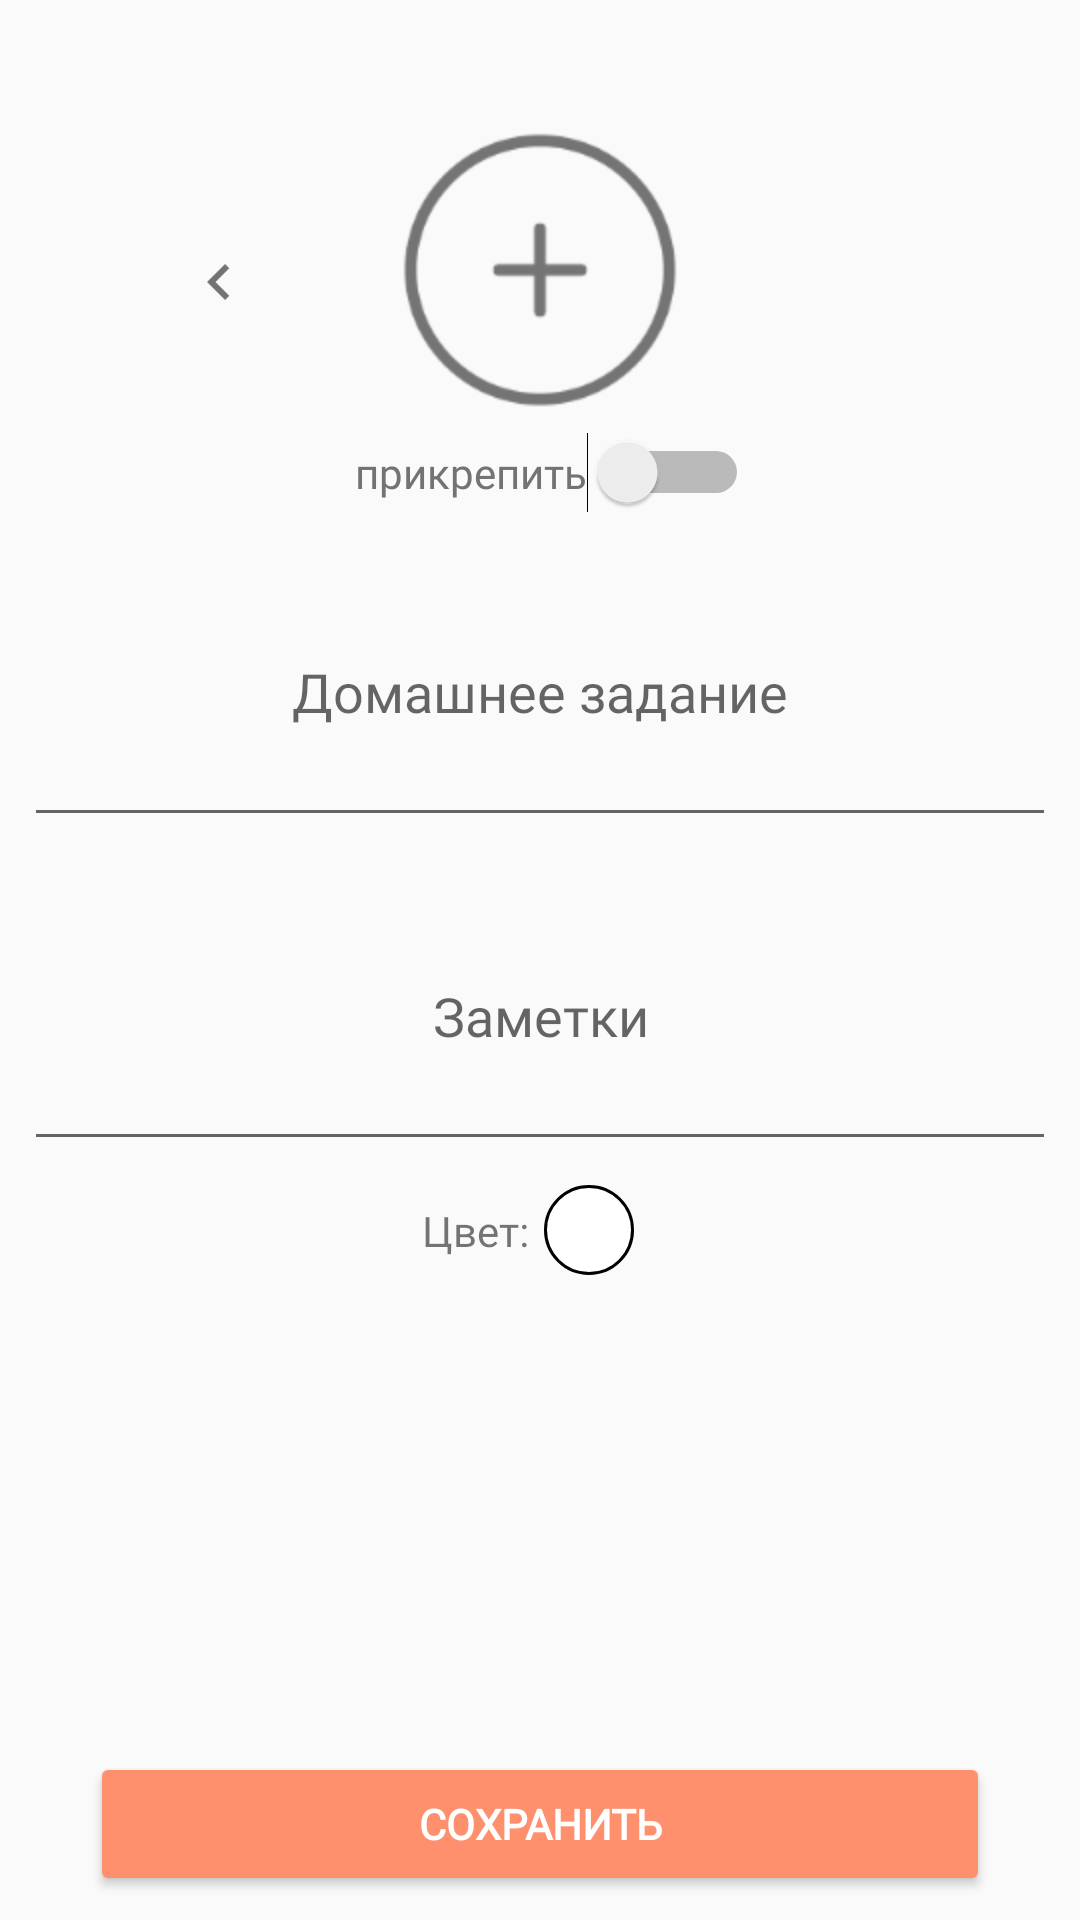

Locate icon controls on the screen. Image size 1080w x 1920h, boxes as (x1, y1, x2, y2).
add photo: (404, 134, 676, 406)
